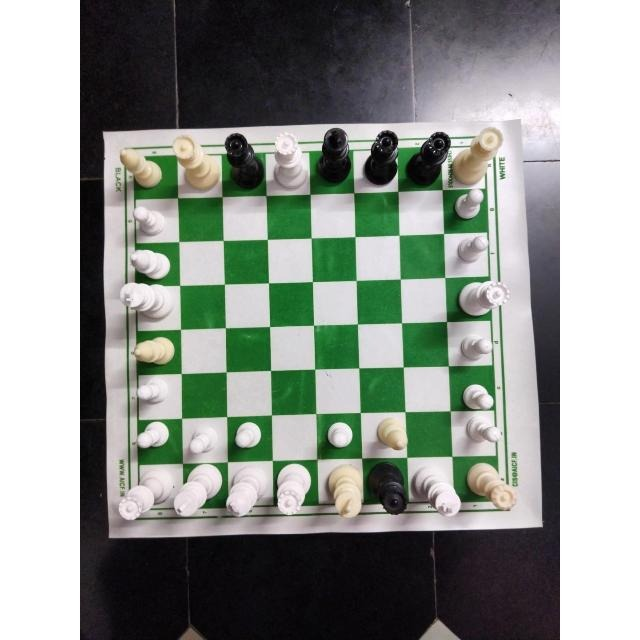black-king: (309, 129, 359, 189)
black-queen: (367, 462, 414, 518), (409, 128, 451, 190), (223, 132, 267, 190), (365, 127, 396, 186)
white-bishop: (119, 148, 163, 193), (363, 415, 414, 453), (131, 331, 178, 371), (127, 245, 170, 278)
white-king: (411, 464, 462, 518), (173, 464, 221, 520), (320, 462, 365, 520), (224, 468, 272, 520), (121, 281, 175, 323)
white-pawn: (135, 422, 183, 461), (136, 370, 183, 407), (451, 180, 493, 221), (131, 198, 173, 238), (188, 415, 228, 457), (462, 413, 504, 453), (457, 330, 497, 370), (450, 380, 498, 412), (230, 416, 268, 456), (452, 230, 486, 272), (324, 415, 355, 451)
white-queen: (456, 127, 505, 191), (170, 136, 225, 190), (267, 133, 311, 199), (465, 459, 517, 513), (117, 468, 169, 521), (449, 279, 512, 319), (278, 465, 316, 519)
